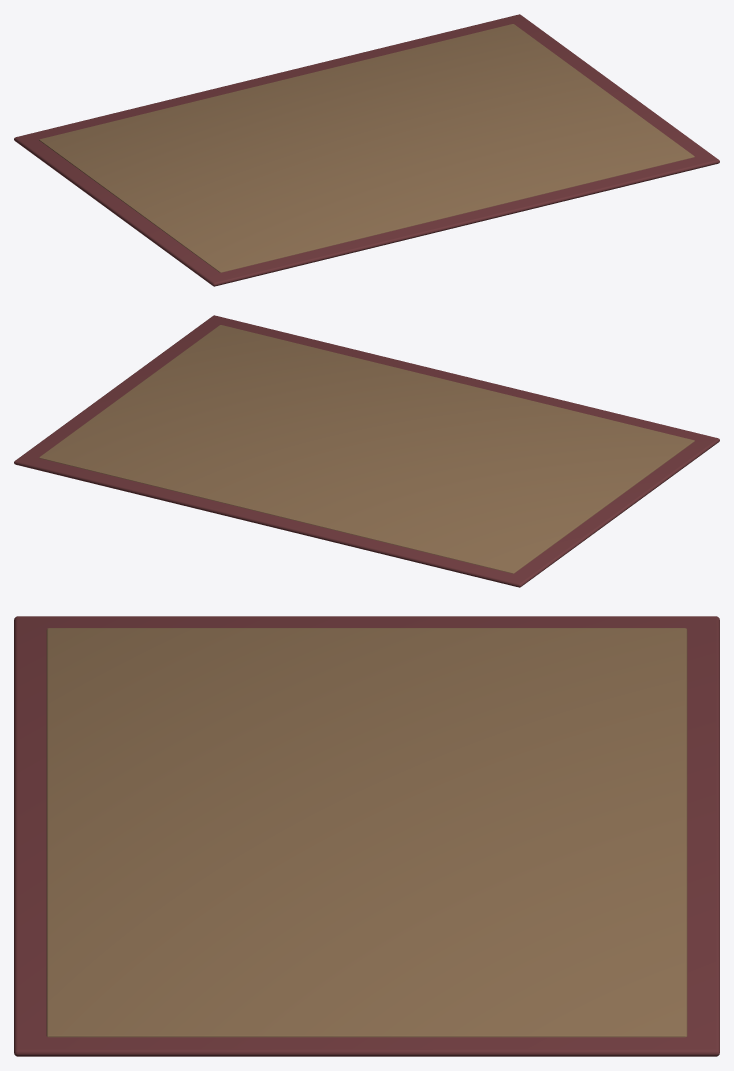
File: rug.glb
The picture shows the model from 3 angles, top to bottom: view 1: azimuth 30°, elevation 25°; view 2: azimuth 150°, elevation 25°; view 3: azimuth 270°, elevation 25°; orthographic projection. The views are drawn at different scales.
Visible parts, largest first — view 1: border, rug; view 2: border, rug; view 3: border, rug.
Boxes of the visible parts, <box> form: border: <box>39,24,694,272</box>; rug: <box>14,14,719,286</box>; border: <box>39,325,694,573</box>; rug: <box>14,315,719,587</box>; border: <box>46,628,687,1037</box>; rug: <box>14,616,719,1056</box>.
Size of the model in its own units: 0.95 by 0.0085 by 0.65.
